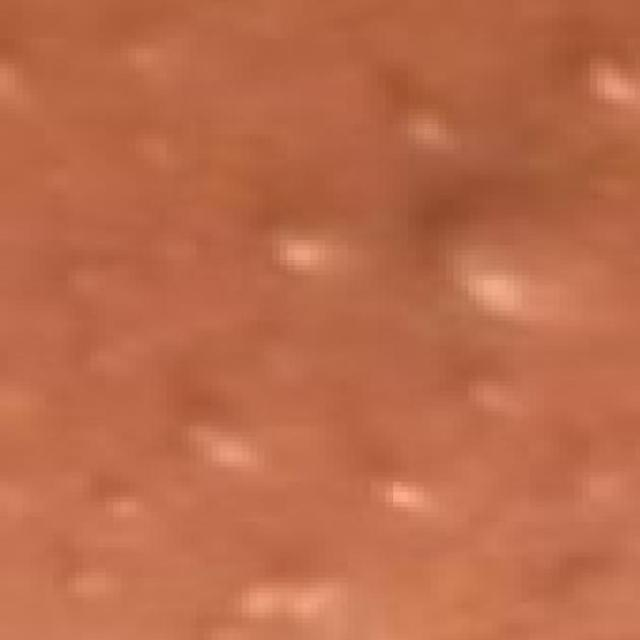whitehead: (11, 1, 640, 640)
